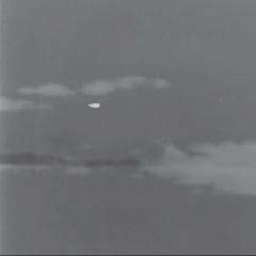Target: (86, 102, 101, 109)
